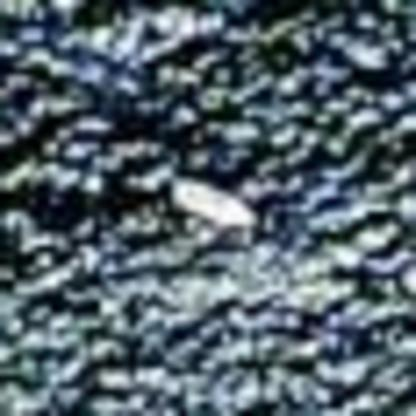ship: (156, 162, 266, 240)
